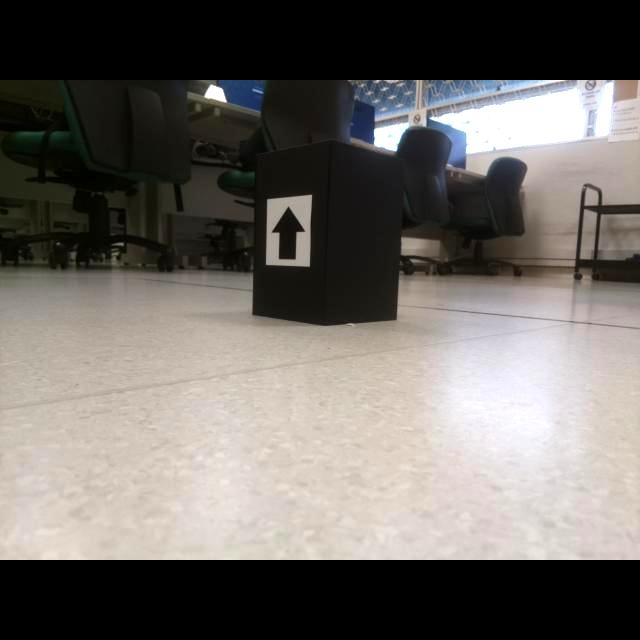UP: (270, 205, 308, 260)
